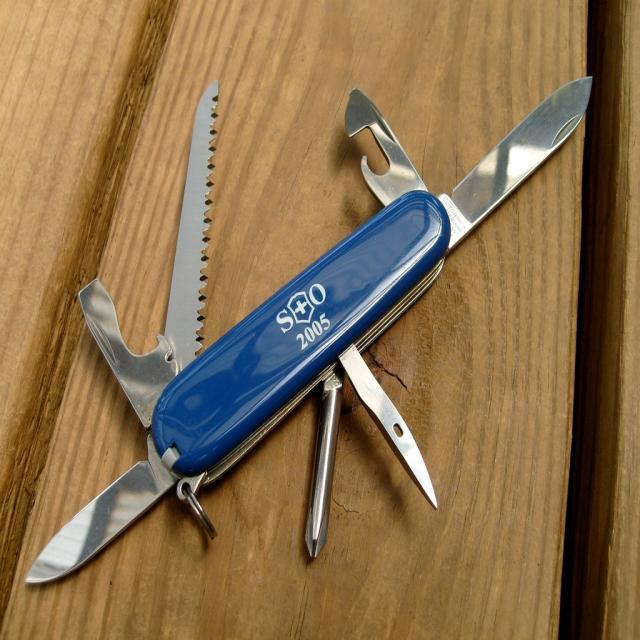Knife: (26, 78, 591, 584)
